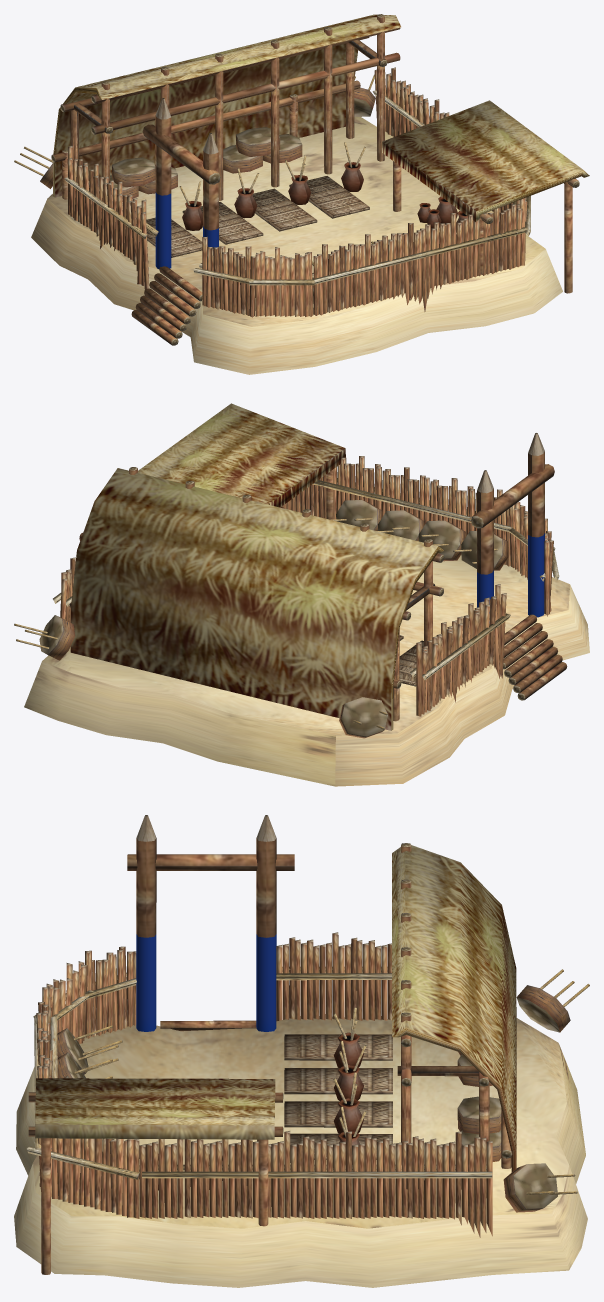
File: range.dae
The picture shows the model from 3 angles, top to bottom: view 1: azimuth 30°, elevation 25°; view 2: azimuth 150°, elevation 25°; view 3: azimuth 270°, elevation 25°; orthographic projection. The views are drawn at different scales.
Visible parts, largest first — view 1: range; view 2: range; view 3: range.
Part boxes in pixels (x1,y1,x2,y2): range: (14, 14, 589, 374); range: (14, 403, 589, 786); range: (14, 815, 589, 1287).
Size of the model in its own units: 21.44 by 22.65 by 11.44.
